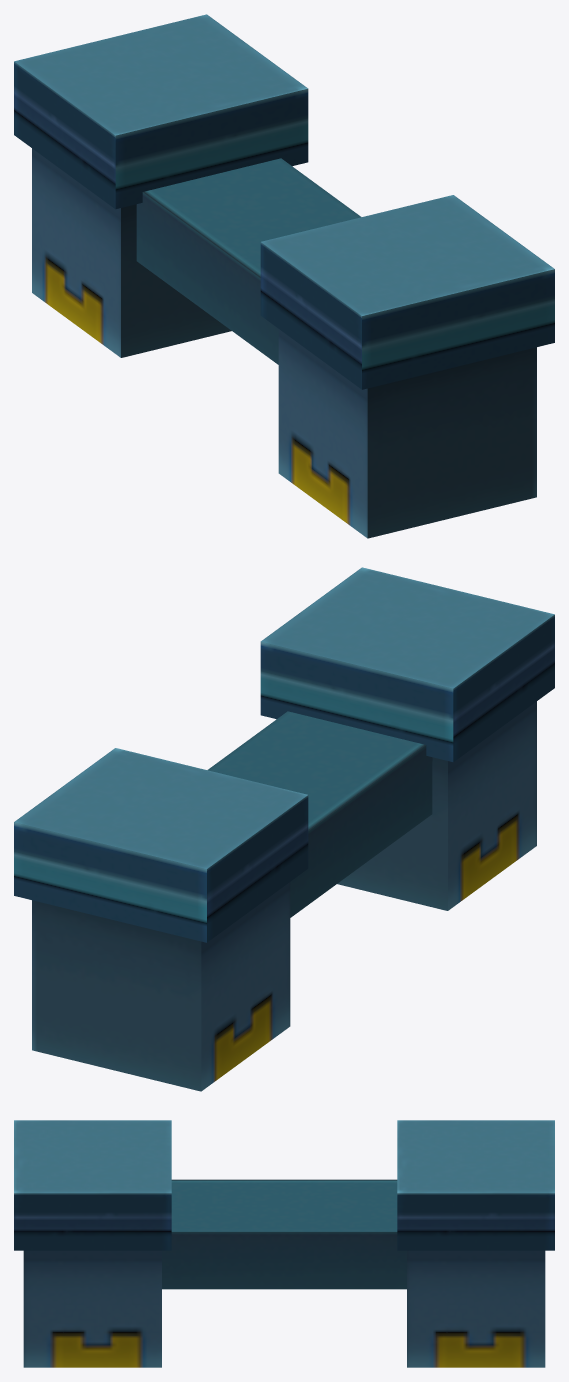
Rendered from LanGan_A.fbx.
3 renders of one model, top to bottom at view 1: azimuth 30°, elevation 25°; view 2: azimuth 150°, elevation 25°; view 3: azimuth 270°, elevation 25°, orthographic. The views are drawn at different scales.
Parts seen in each view (by area): view 1: LanGan_A; view 2: LanGan_A; view 3: LanGan_A.
Boxes of the visible parts, x1,y1,x2,y2 form: LanGan_A: (14, 14, 554, 538); LanGan_A: (14, 567, 554, 1091); LanGan_A: (14, 1120, 554, 1367).
Bounding box in the file's own units: 0.1476 × 0.1681 × 0.4614.
Materials: 1 (1 with a texture image).
